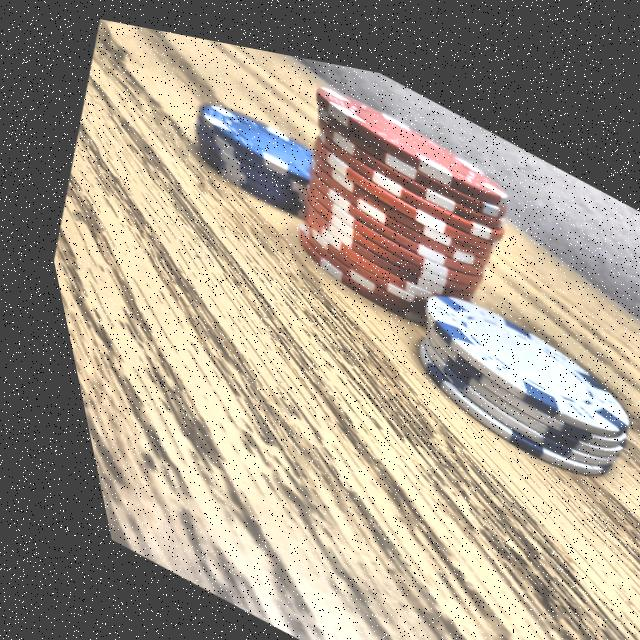Chip: (229, 35, 560, 375), (349, 227, 640, 499), (163, 67, 341, 226)
